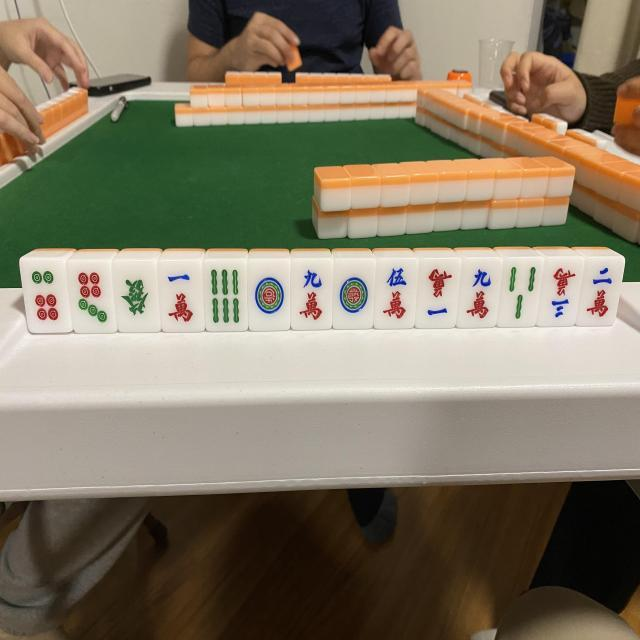hdg: (118, 268, 156, 324)
sb3: (500, 256, 540, 323)
sb6: (206, 262, 244, 328)
sc1: (419, 259, 457, 320), (164, 265, 201, 325)
sc2: (578, 258, 620, 324)
sc3: (543, 260, 582, 323)
sc5: (376, 260, 412, 323)
sc9: (461, 260, 497, 322), (295, 262, 331, 323)
sd1: (336, 264, 374, 322), (252, 266, 290, 324)
sd6: (27, 263, 62, 327)
sd7: (74, 263, 114, 328)
